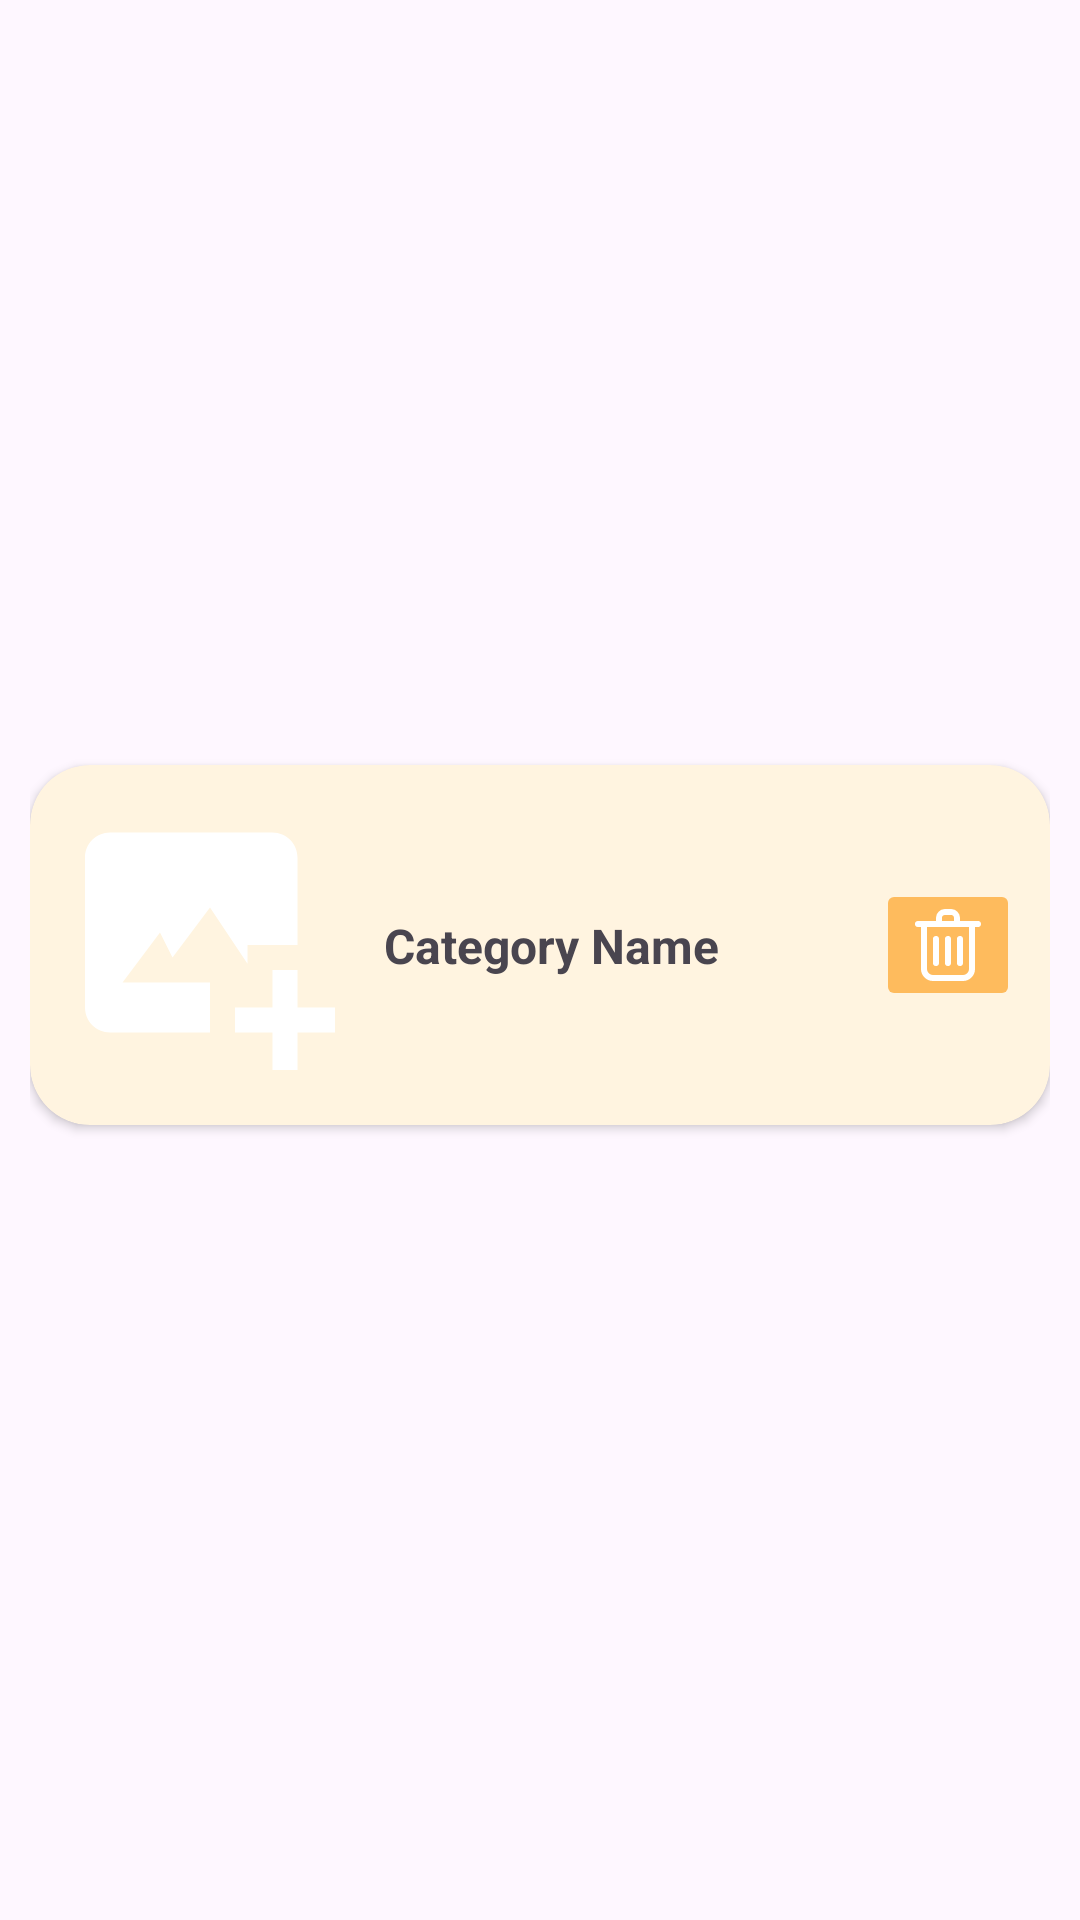

Locate icon controls on the screen. Image size 1080px x 1920px, boxes as (x1,y1,x2,y2).
add: (85,833,335,1070)
remove: (888,897,1008,993)
